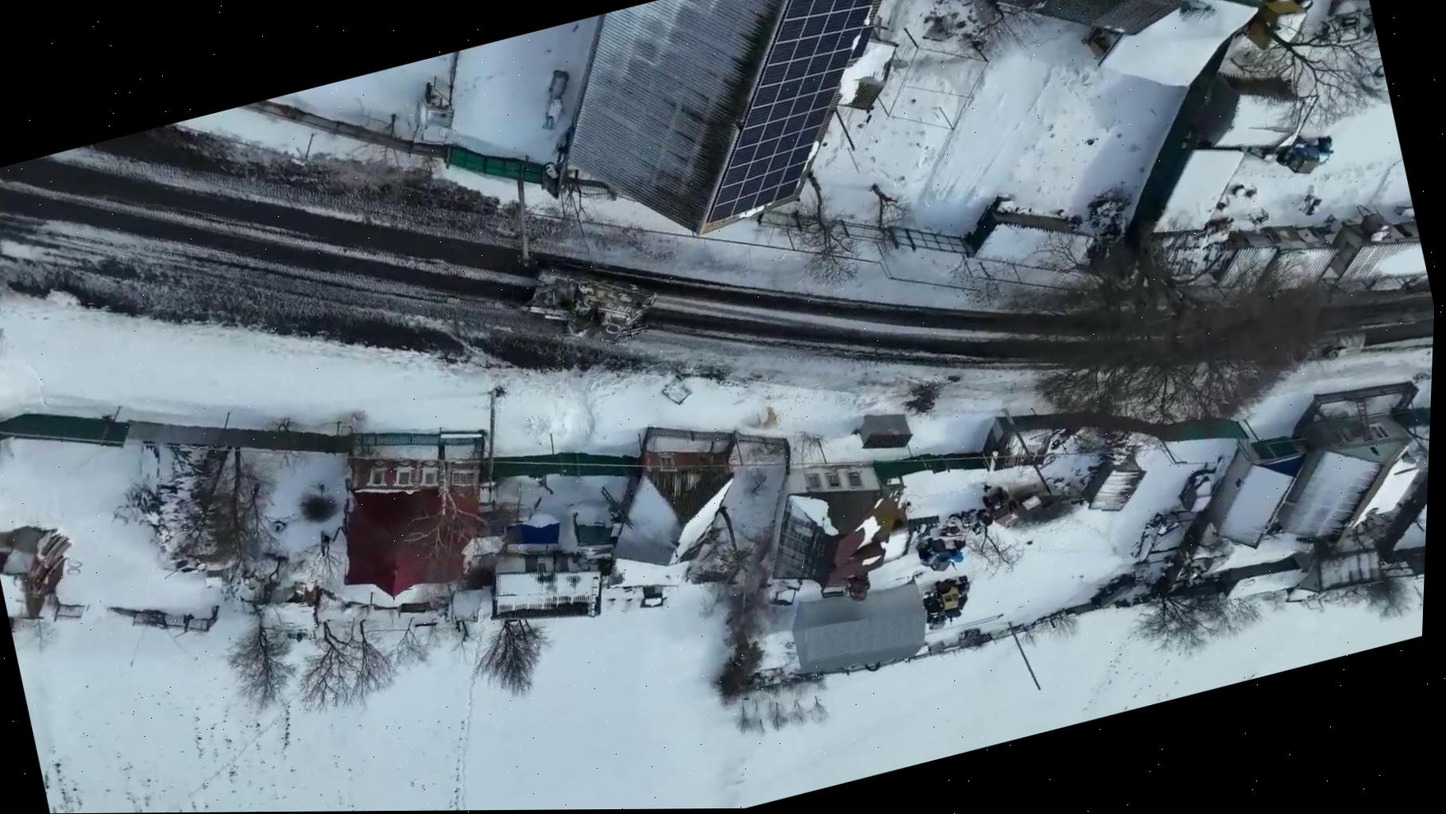car: (1267, 118, 1338, 181), (913, 530, 972, 578), (915, 587, 969, 633), (978, 483, 1023, 532), (931, 571, 974, 611)
sau: (433, 239, 669, 385)
truck: (1224, 287, 1387, 397)
